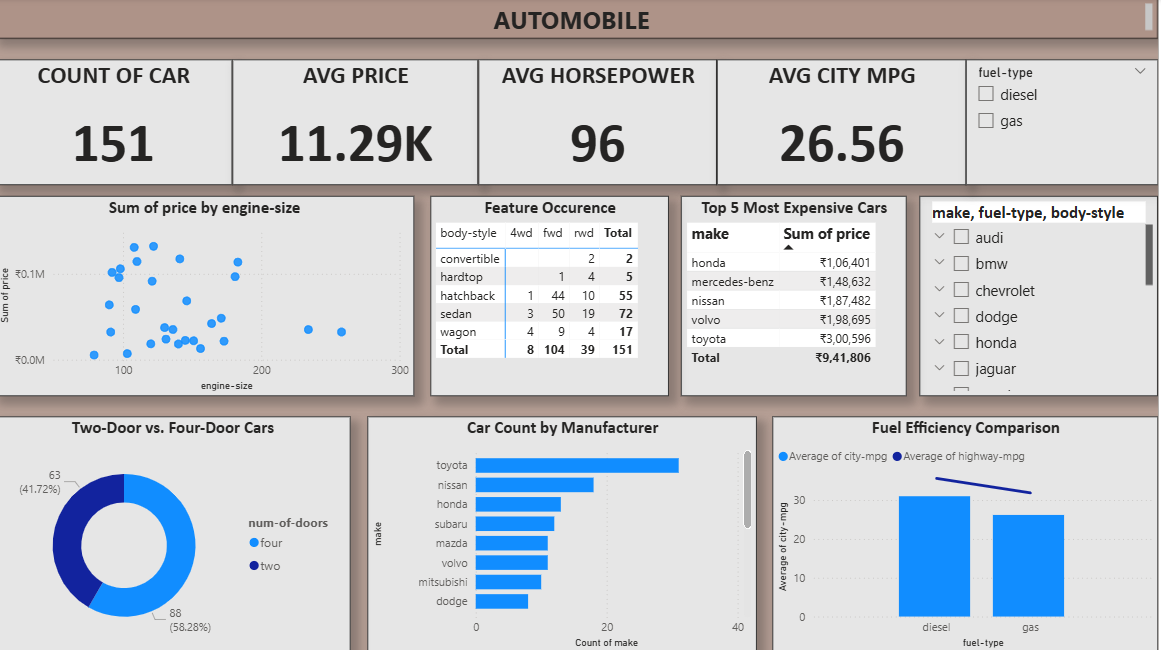

This screenshot's page, from the dashboard's own definition file:
{"tool":"powerbi","page":{"name":"Dashboard","canvas":[1280,720],"ordinal":5},"visuals":[{"type":"textbox","box":[0,0,1280,45],"z":0},{"type":"card","title":"COUNT OF CAR","fields":{"Values":["CountNonNull(Automobile.make)"]},"box":[0,67,262.1,138.2],"z":1000},{"type":"card","title":"AVG PRICE ","fields":{"Values":["Automobile.Average Price"]},"box":[262.1,67,270.2,138.2],"z":2000},{"type":"slicer","fields":{"Values":["Automobile.make","Automobile.fuel-type","Automobile.body-style"]},"box":[1018,218,262,220],"z":2000},{"type":"card","title":"AVG HORSEPOWER","fields":{"Values":["Automobile.Average_horsepower"]},"box":[532.3,67,262.1,138.2],"z":3000},{"type":"barChart","title":"Car Count by Manufacturer","fields":{"Category":["Automobile_data.make"],"Y":["CountNonNull(Automobile_data.make)"]},"box":[410,460,428,260],"z":3000},{"type":"card","title":"AVG CITY MPG","fields":{"Values":["Avg(Automobile.city-mpg)"]},"box":[794.4,67,274.3,138.2],"z":4000},{"type":"tableEx","title":"Top 5 Most Expensive Cars","fields":{"Values":["Automobile.make","Sum(Automobile.price)"]},"box":[756,218,248,220],"z":4000},{"type":"lineStackedColumnComboChart","title":"Fuel Efficiency Comparison","fields":{"Category":["Automobile.fuel-type"],"Y":["Avg(Automobile.city-mpg)"],"Y2":["Avg(Automobile.highway-mpg)"]},"box":[856,460,424,260],"z":5000},{"type":"pivotTable","title":"Feature Occurence","fields":{"Rows":["Automobile.body-style"],"Columns":["Automobile.drive-wheels"],"Values":["CountNonNull(Automobile.make)"]},"box":[480,218,262,220],"z":6000},{"type":"donutChart","title":"Two-Door vs. Four-Door Cars","fields":{"Category":["Automobile.num-of-doors"],"Y":["CountNonNull(Automobile.num-of-doors)"]},"box":[0,460,392,260],"z":7000},{"type":"scatterChart","fields":{"X":["Automobile.engine-size"],"Y":["Sum(Automobile.price)"]},"box":[0,218,462,220],"z":8000},{"type":"slicer","fields":{"Values":["Automobile.fuel-type"]},"box":[1068.7,67,211.3,138.2],"z":8001}]}

Visuals, with their boxes in screenshot pixels (x1, y1, x2, y2), scaled from the page's 1280x720 canvas onto the 1161x650 screenshot:
textbox: [0, 0, 1160, 41]
"COUNT OF CAR" card: [0, 60, 238, 185]
"AVG PRICE " card: [238, 60, 483, 185]
slicer - Automobile.make x Automobile.fuel-type: [923, 197, 1160, 395]
"AVG HORSEPOWER" card: [483, 60, 721, 185]
"Car Count by Manufacturer" barChart: [372, 415, 760, 649]
"AVG CITY MPG" card: [721, 60, 969, 185]
"Top 5 Most Expensive Cars" tableEx: [686, 197, 911, 395]
"Fuel Efficiency Comparison" lineStackedColumnComboChart: [776, 415, 1160, 649]
"Feature Occurence" pivotTable: [435, 197, 673, 395]
"Two-Door vs. Four-Door Cars" donutChart: [0, 415, 356, 649]
scatterChart - Automobile.engine-size x Sum(Automobile.price): [0, 197, 419, 395]
slicer - Automobile.fuel-type: [969, 60, 1160, 185]
